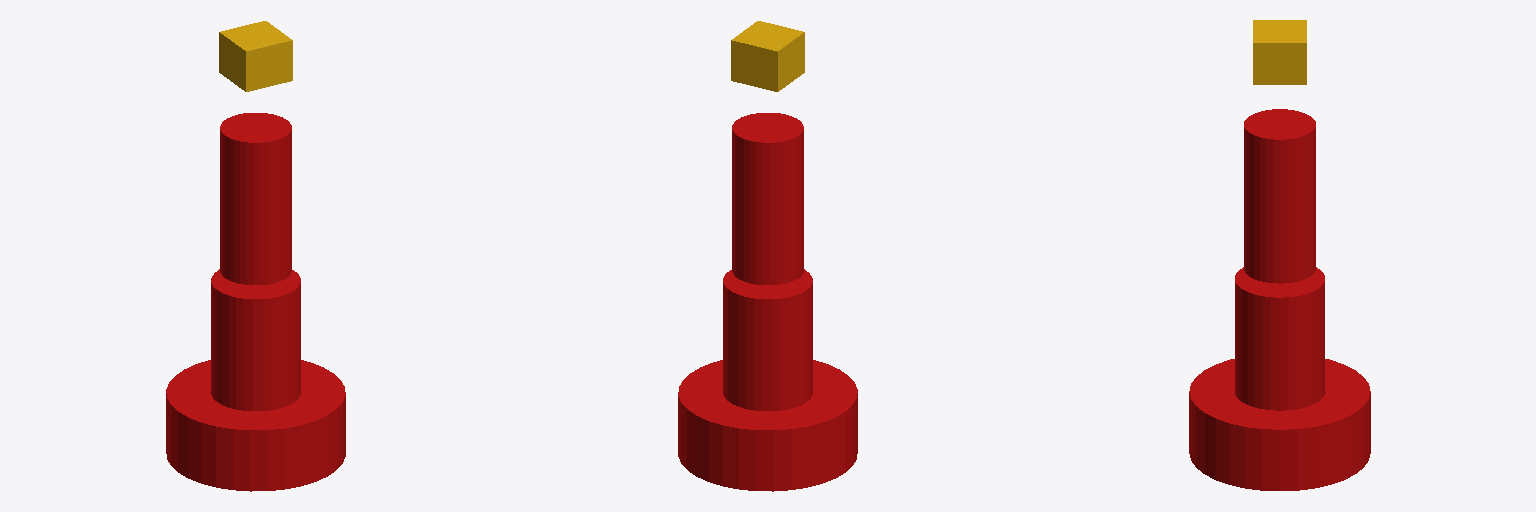
The robot description file, URDF, robot "sheikha_industrial_arm_6dof_v1":
<?xml version="1.0"?>
<!-- 
  الملكية الفكرية الحصرية: مؤسسة سلمان أحمد بن سلمان الراجح للتجارة
  CR: 2051263653 | الرقم الموحد: 7036121197
  SHEIKHA Robotics Foundry — Native 6-DOF Industrial Metal-Sorting & Assay Arm
  الحوكمة: BOUND_BY_QURAN_SUNNAH | قاعدة: لا ضرر ولا ضرر
  R4 PHYSICAL MOTION: LOCKED PERMANENTLY — أي حركة مادية تتطلب E-Stop + Human Sign-off
-->
<robot name="sheikha_industrial_arm_6dof_v1">
  <link name="base_link">
    <visual><geometry><cylinder length="0.15" radius="0.20"/></geometry><material name="sheikha_red"><color rgba="0.8 0.1 0.1 1"/></material></visual>
  </link>
  <link name="shoulder_link">
    <visual><geometry><cylinder length="0.40" radius="0.10"/></geometry><material name="sheikha_red"/></visual>
  </link>
  <link name="elbow_link">
    <visual><geometry><cylinder length="0.35" radius="0.08"/></geometry><material name="sheikha_red"/></visual>
  </link>
  <link name="wrist_assay_sensor_link">
    <visual><geometry><box size="0.12 0.12 0.10"/></geometry><material name="sheikha_gold"><color rgba="0.9 0.7 0.1 1"/></material></visual>
  </link>
  <joint name="joint_1_base_yaw" type="revolute">
    <parent link="base_link"/><child link="shoulder_link"/>
    <origin xyz="0 0 0.15" rpy="0 0 0"/><axis xyz="0 0 1"/>
    <limit lower="-3.14" upper="3.14" effort="150.0" velocity="1.5"/>
  </joint>
  <joint name="joint_2_shoulder_pitch" type="revolute">
    <parent link="shoulder_link"/><child link="elbow_link"/>
    <origin xyz="0 0 0.40" rpy="0 0 0"/><axis xyz="0 1 0"/>
    <limit lower="-1.57" upper="1.57" effort="120.0" velocity="1.2"/>
  </joint>
  <joint name="joint_3_wrist_optical_xrf" type="revolute">
    <parent link="elbow_link"/><child link="wrist_assay_sensor_link"/>
    <origin xyz="0 0 0.35" rpy="0 0 0"/><axis xyz="0 1 0"/>
    <limit lower="-1.57" upper="1.57" effort="50.0" velocity="2.0"/>
  </joint>
</robot>

--- What the picture shows (computed from the rendered views, not written in the file) ---
The picture shows the robot from 3 angles, left to right: view 1: azimuth 30°, elevation 25°; view 2: azimuth 150°, elevation 25°; view 3: azimuth 270°, elevation 25°; orthographic projection.
Robot: sheikha_industrial_arm_6dof_v1 — 4 links, 3 joints (3 revolute); root link base_link; default pose: all joints at 0.
Visible links, largest first — view 1: base_link, elbow_link, shoulder_link, wrist_assay_sensor_link; view 2: base_link, elbow_link, shoulder_link, wrist_assay_sensor_link; view 3: base_link, elbow_link, shoulder_link, wrist_assay_sensor_link.
Link boxes in pixels (x1,y1,x2,y2): base_link: [166, 360, 345, 491]; elbow_link: [220, 113, 291, 284]; shoulder_link: [211, 269, 300, 410]; wrist_assay_sensor_link: [219, 21, 292, 91]; base_link: [678, 360, 857, 491]; elbow_link: [732, 113, 803, 284]; shoulder_link: [723, 269, 812, 410]; wrist_assay_sensor_link: [731, 21, 804, 91]; base_link: [1189, 359, 1370, 490]; elbow_link: [1244, 109, 1315, 283]; shoulder_link: [1235, 267, 1324, 410]; wrist_assay_sensor_link: [1253, 20, 1306, 84].
Size in the robot's own frame: 0.4 by 0.4 by 1.02 metres.
Geometry: primitives only (box / cylinder / sphere), no mesh files.
